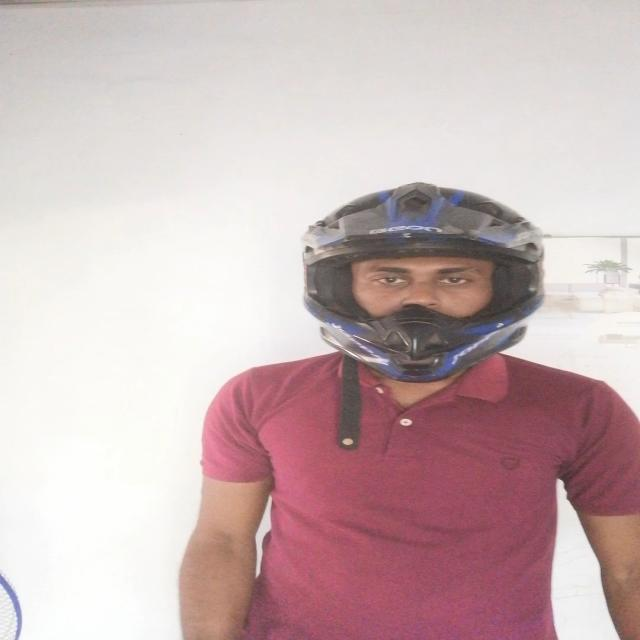Helmet_Wearer: (292, 172, 552, 402)
Person: (167, 186, 640, 640)
